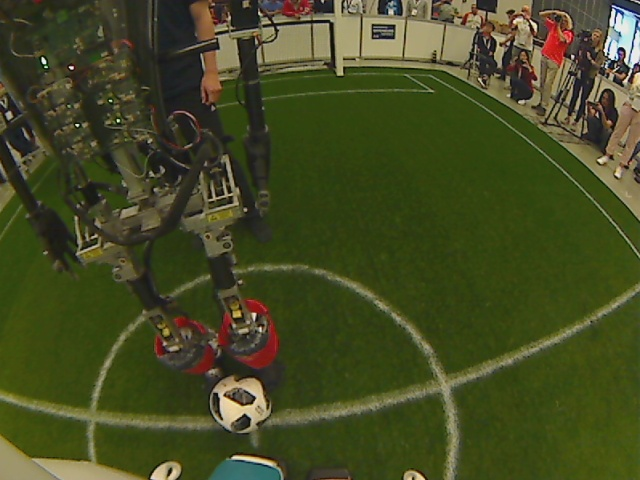ball: (205, 370, 278, 439)
